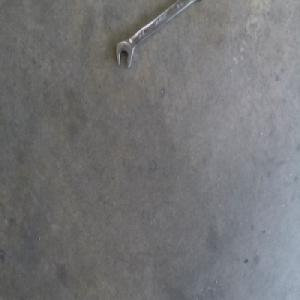Wrench: (116, 0, 193, 67)
